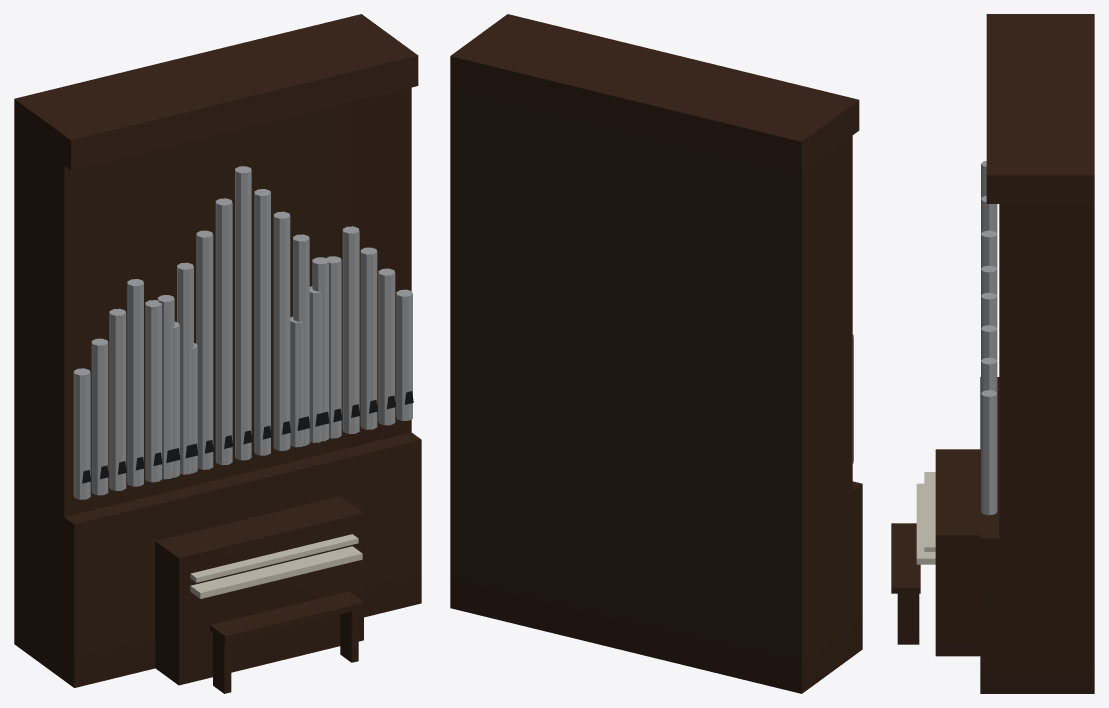
Rendered from cabinet.organ.walnut.glb.
3 renders of one model, left to right at view 1: azimuth 30°, elevation 25°; view 2: azimuth 150°, elevation 25°; view 3: azimuth 270°, elevation 25°, orthographic. The views are drawn at different scales.
Parts seen in each view (by area): view 1: cabinet_organ_walnut; view 2: cabinet_organ_walnut; view 3: cabinet_organ_walnut.
Part boxes in pixels (x1,y1,x2,y2): cabinet_organ_walnut: (14,14,421,693); cabinet_organ_walnut: (450,14,862,693); cabinet_organ_walnut: (891,14,1094,693).
Size of what is drawn, in the model's own units: 3 by 4.5 by 1.6.
